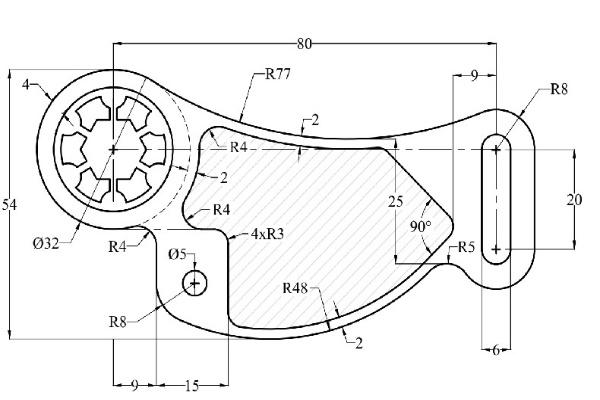dimensions: (25, 232, 66, 256), (252, 222, 290, 246), (103, 305, 132, 335), (159, 240, 191, 264), (279, 275, 313, 297), (101, 236, 132, 257), (548, 76, 572, 103), (180, 373, 206, 397), (263, 63, 293, 83), (454, 237, 483, 257), (211, 196, 234, 220), (562, 188, 586, 211), (0, 190, 24, 212), (294, 33, 318, 54), (225, 140, 253, 158), (385, 188, 407, 209), (351, 332, 368, 352), (467, 63, 482, 85), (126, 378, 144, 395), (16, 76, 35, 91), (311, 109, 324, 129), (488, 342, 504, 358), (216, 170, 231, 186)
